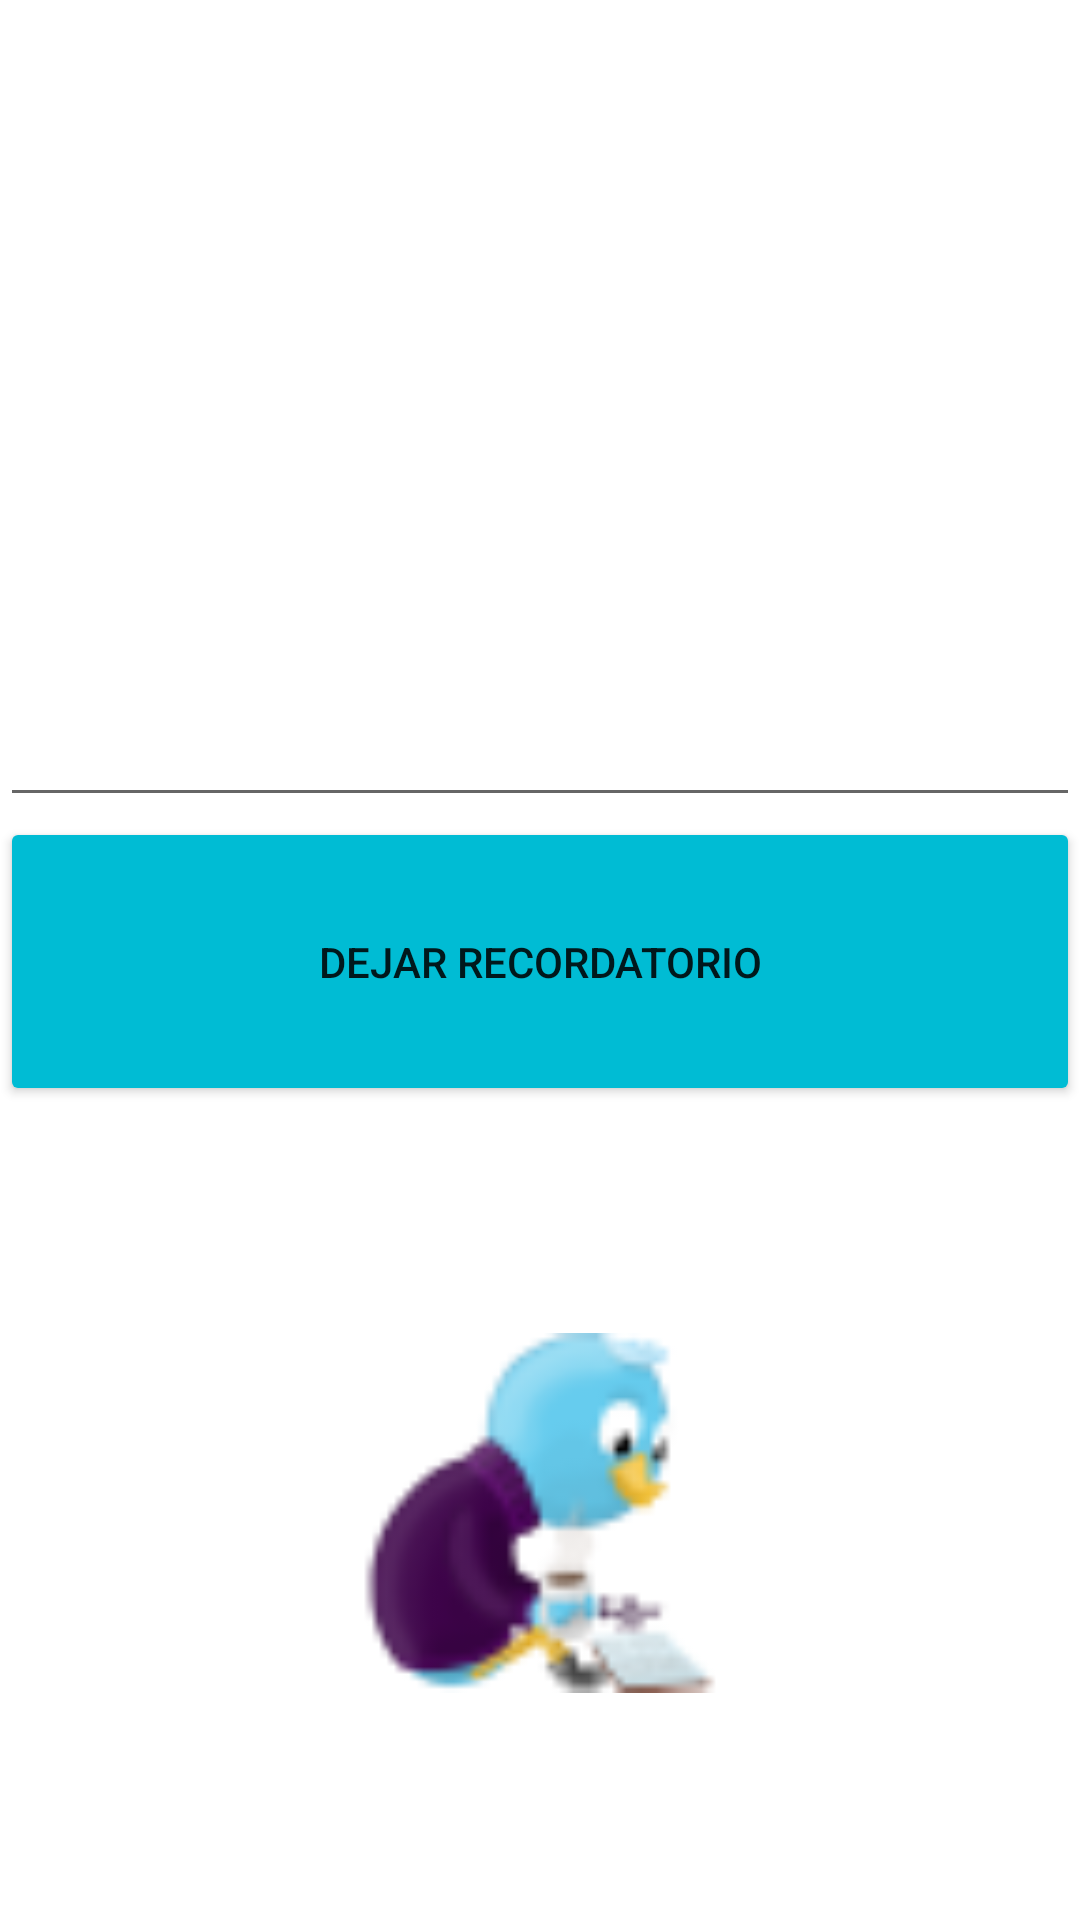

Where icons sit on this 1080px x 1920px app screen, as region(x1, y1, x2, y2):
dibujo: region(366, 1333, 713, 1693)
